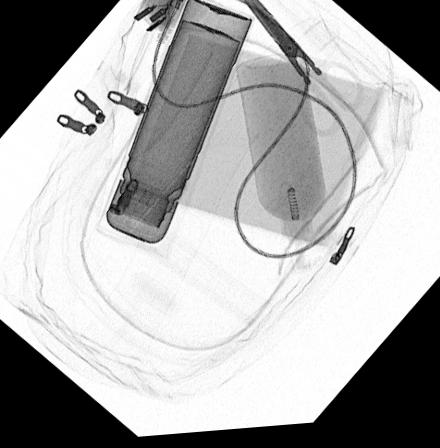Scissors: (238, 0, 363, 140)
